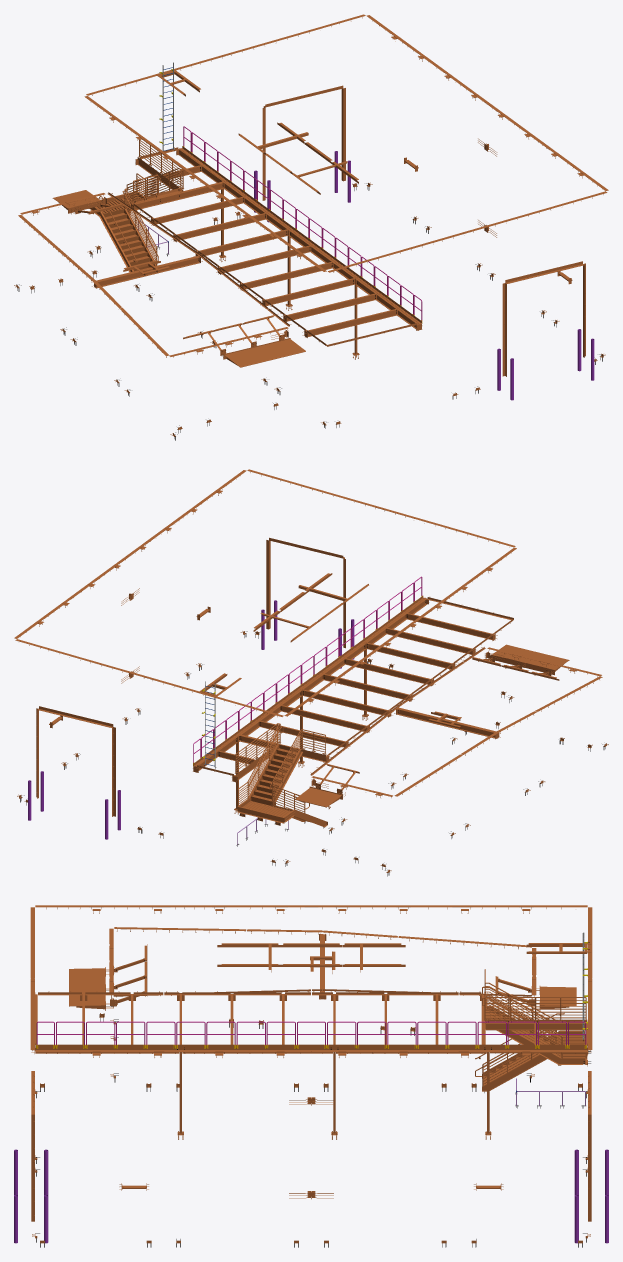
The picture shows the model from 3 angles, top to bottom: view 1: azimuth 30°, elevation 25°; view 2: azimuth 150°, elevation 25°; view 3: azimuth 270°, elevation 25°; orthographic projection. The views are drawn at different scales.
Visible parts, largest first — view 1: Mesh 11490; view 2: Mesh 11490; view 3: Mesh 11490.
Boxes of the visible parts, <box> form: Mesh 11490: <box>14,14,608,440</box>; Mesh 11490: <box>14,469,608,876</box>; Mesh 11490: <box>14,905,608,1247</box>.
Bounding box in the file's own units: 22.54 × 9.42 × 24.58.
Materials: 1 (1 with a texture image).
